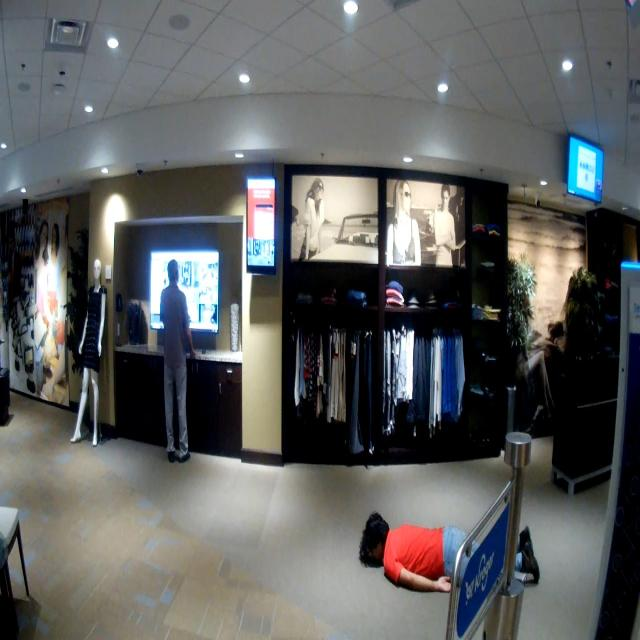fall: (342, 479, 562, 610)
normal: (153, 250, 200, 480)
